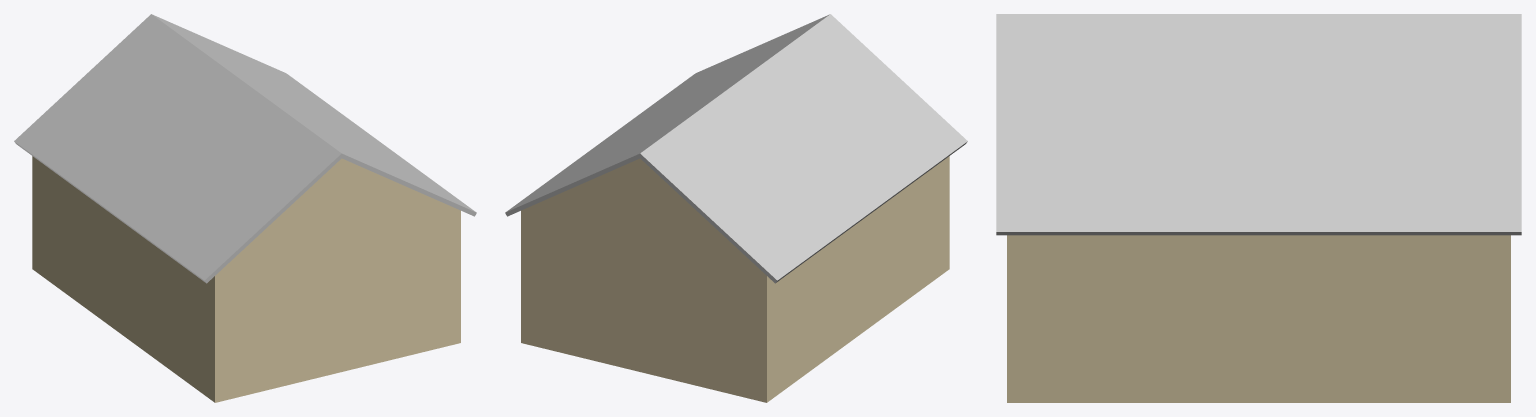
The model's file is 13_casa_LOD1fbx.fbx.
3 renders of one model, left to right at view 1: azimuth 30°, elevation 25°; view 2: azimuth 150°, elevation 25°; view 3: azimuth 270°, elevation 25°, orthographic. The views are drawn at different scales.
Parts seen in each view (by area): view 1: 11_casa-LOD1; view 2: 11_casa-LOD1; view 3: 11_casa-LOD1.
Boxes of the visible parts, <box> form: 11_casa-LOD1: <box>14,14,476,402</box>; 11_casa-LOD1: <box>505,14,967,402</box>; 11_casa-LOD1: <box>996,14,1521,402</box>.
Bounding box in the file's own units: 629 × 490 × 762.
